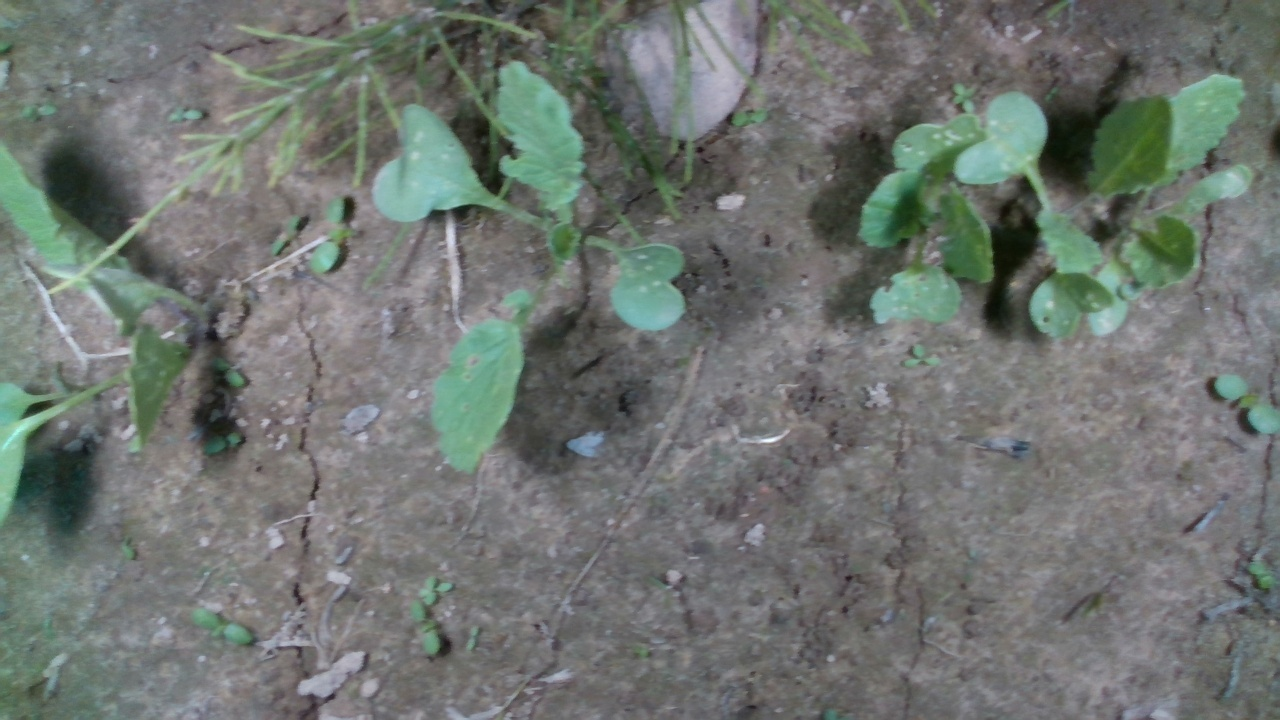weed: (307, 193, 356, 277), (187, 605, 254, 648), (266, 211, 305, 255), (202, 428, 244, 456), (898, 340, 940, 367), (464, 622, 481, 652)
